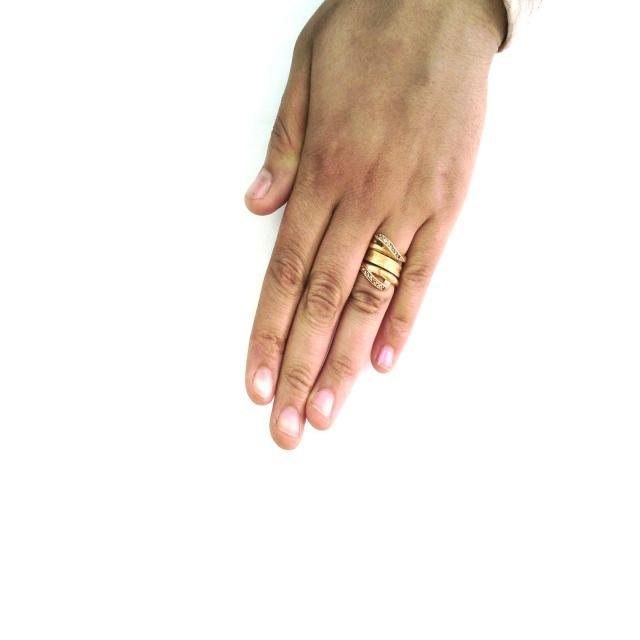Fingernail: (247, 168, 271, 199), (277, 407, 301, 436), (312, 389, 333, 417), (254, 368, 272, 399), (378, 346, 393, 369)
